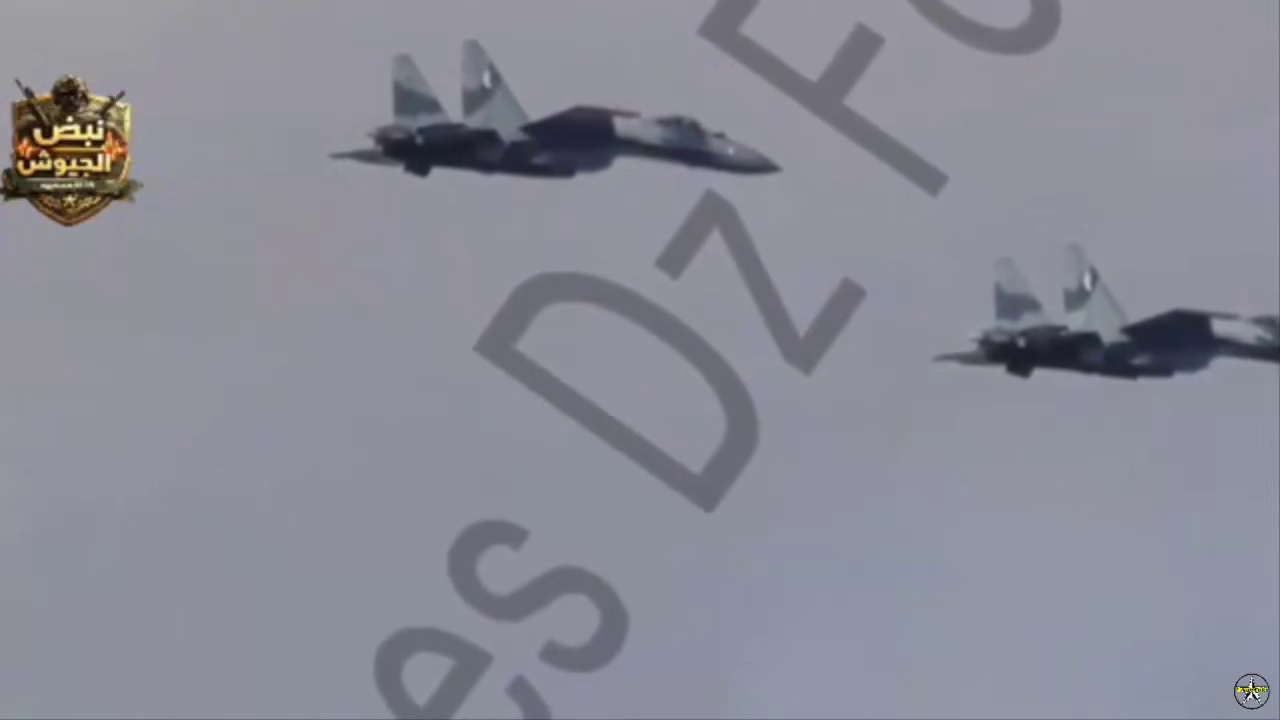Su35: (322, 31, 789, 193), (920, 239, 1279, 394)
